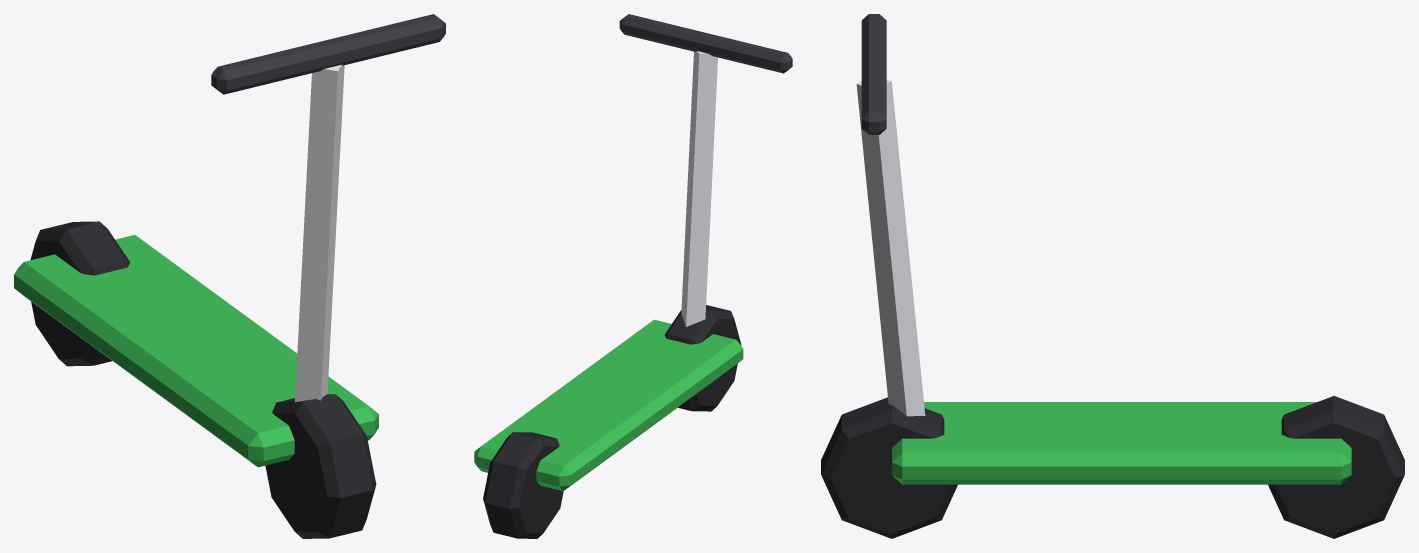
The model's file is GreenScooter.fbx.
3 renders of one model, left to right at view 1: azimuth 30°, elevation 25°; view 2: azimuth 150°, elevation 25°; view 3: azimuth 270°, elevation 25°, orthographic. The views are drawn at different scales.
Parts seen in each view (by area): view 1: GreenScooter, GreenScooter_WheelF, GreenScooter_WheelB; view 2: GreenScooter, GreenScooter_WheelB, GreenScooter_WheelF; view 3: GreenScooter, GreenScooter_WheelF, GreenScooter_WheelB.
Part boxes in pixels (bbox=[...]): GreenScooter: bbox=[14, 14, 445, 467]; GreenScooter_WheelF: bbox=[265, 394, 376, 538]; GreenScooter_WheelB: bbox=[30, 221, 129, 366]; GreenScooter: bbox=[474, 14, 792, 491]; GreenScooter_WheelB: bbox=[483, 432, 563, 538]; GreenScooter_WheelF: bbox=[665, 305, 741, 411]; GreenScooter: bbox=[856, 14, 1351, 484]; GreenScooter_WheelF: bbox=[821, 397, 957, 538]; GreenScooter_WheelB: bbox=[1268, 396, 1404, 538].
Bounding box in the file's own units: 1.4 × 2.92 × 3.3.
1 material, 1 textured.
